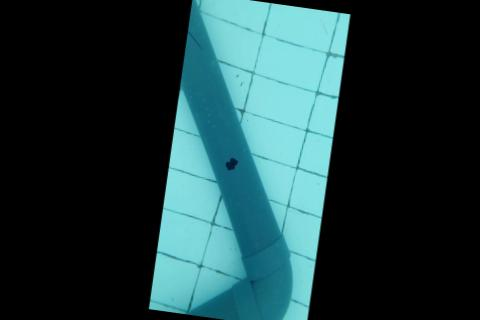kebocoran: (224, 155, 239, 173)
keretakan: (184, 29, 205, 51)
